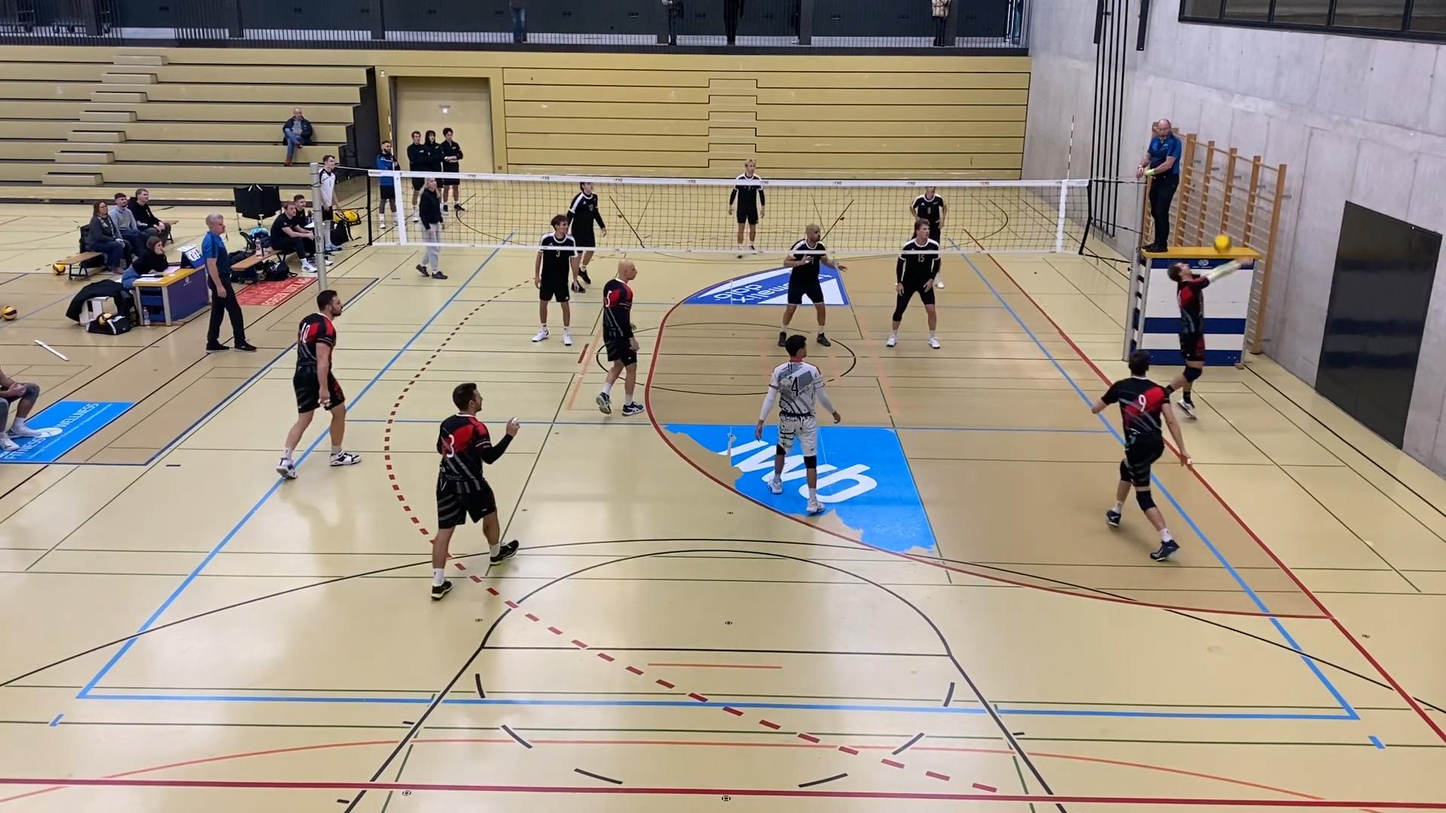alzata: (1155, 246, 1257, 421)
